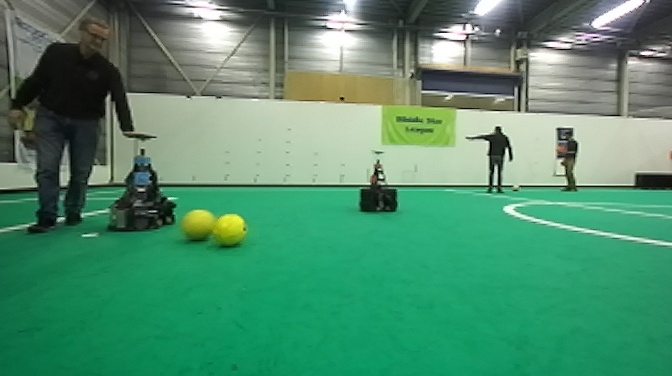ball: (211, 212, 247, 250), (181, 207, 217, 245), (510, 182, 521, 192), (556, 143, 566, 154)
human: (6, 17, 140, 237), (460, 123, 513, 193), (558, 128, 579, 190)
robot: (106, 136, 176, 232), (358, 150, 399, 214)
